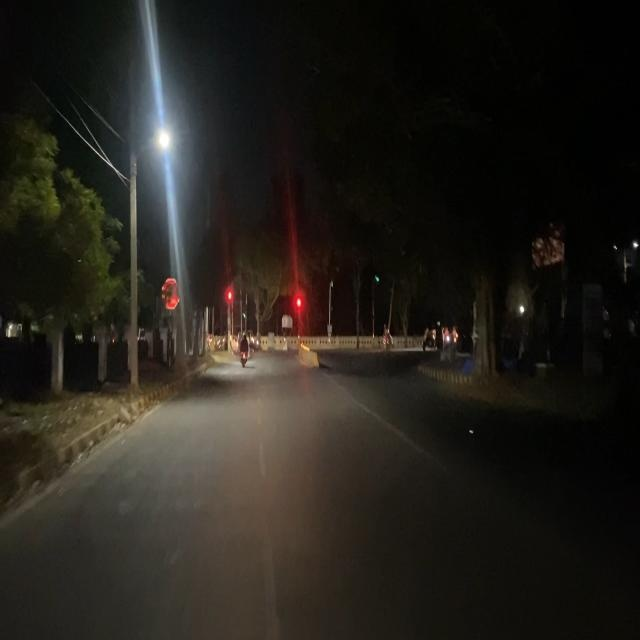bien_nguy_hiem: (159, 276, 181, 310)
